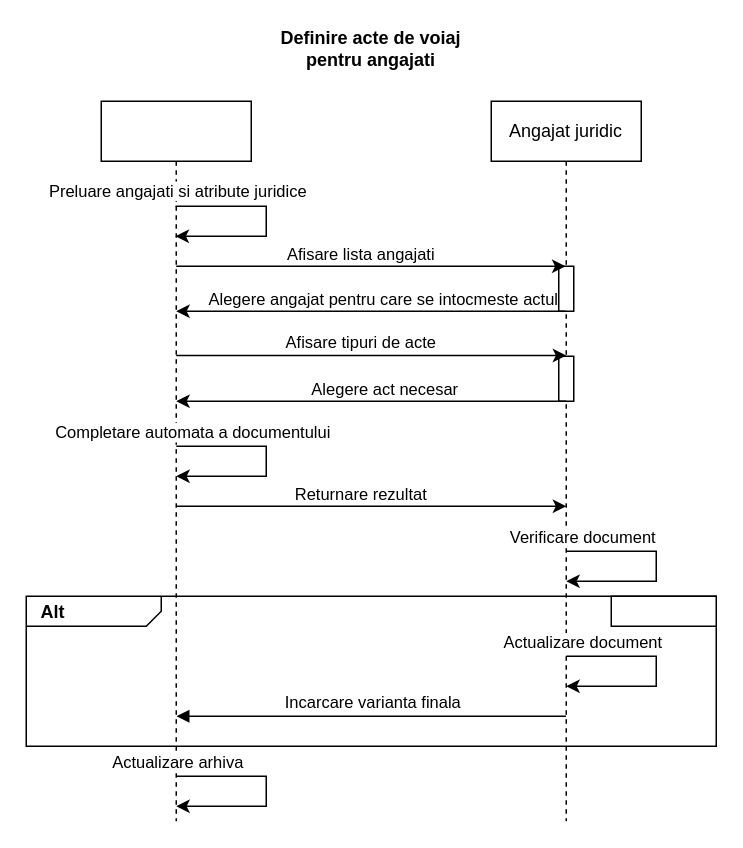
Some shapes in this 743 by 848 pixel diagram are drawn without their labels. The shapes that lost their labels are listed below. From the top down, each one's centre as x and y in pixels, then its label:
At [175,460]: "Sistem".
At [663,610]: "if incomplet".
